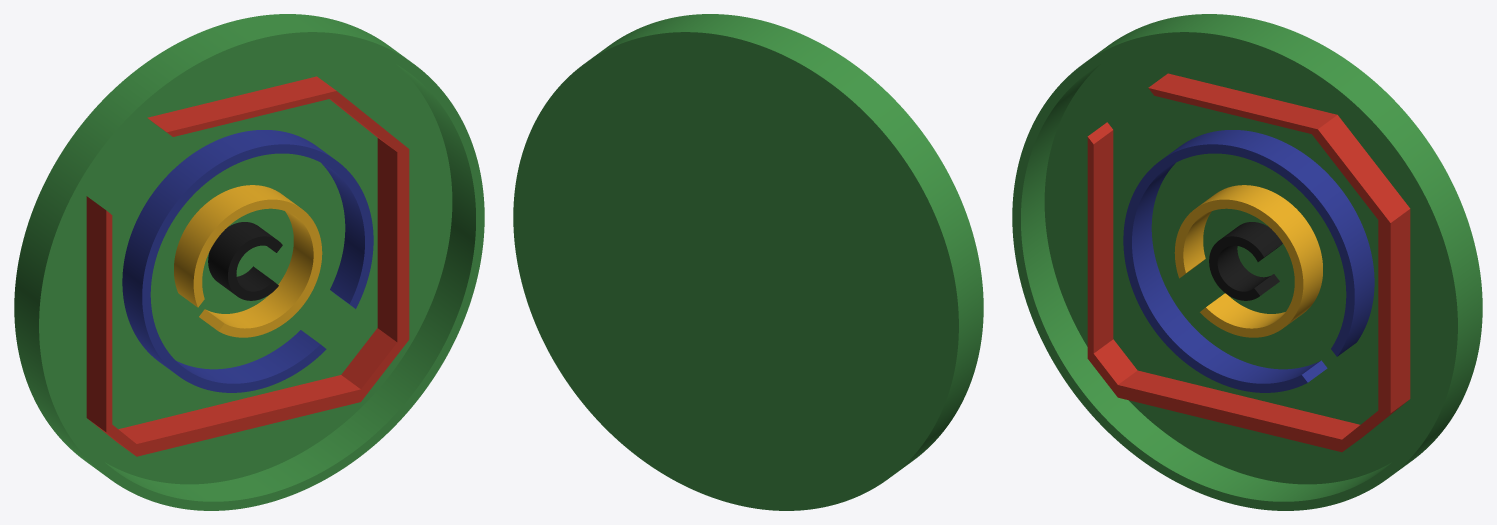
Rendered from sensor_world.obj.
The picture shows the model from 3 angles, left to right: view 1: azimuth 30°, elevation 25°; view 2: azimuth 150°, elevation 25°; view 3: azimuth 330°, elevation 25°; orthographic projection.
Visible parts, largest first — view 1: world, Body3, Body1, Body2, Body4; view 2: world; view 3: world, Body3, Body1, Body2, Body4.
Boxes of the visible parts, box(x1,y1,x2,y2) form: world: box(14, 14, 484, 510); Body3: box(86, 76, 409, 456); Body1: box(122, 130, 373, 392); Body2: box(174, 185, 322, 337); Body4: box(208, 222, 282, 300); world: box(513, 14, 983, 510); world: box(1012, 14, 1482, 510); Body3: box(1087, 73, 1410, 452); Body1: box(1123, 130, 1374, 392); Body2: box(1174, 185, 1322, 337); Body4: box(1209, 222, 1282, 300).
Size of the model in its own units: 2.6 by 2.6 by 0.25.
